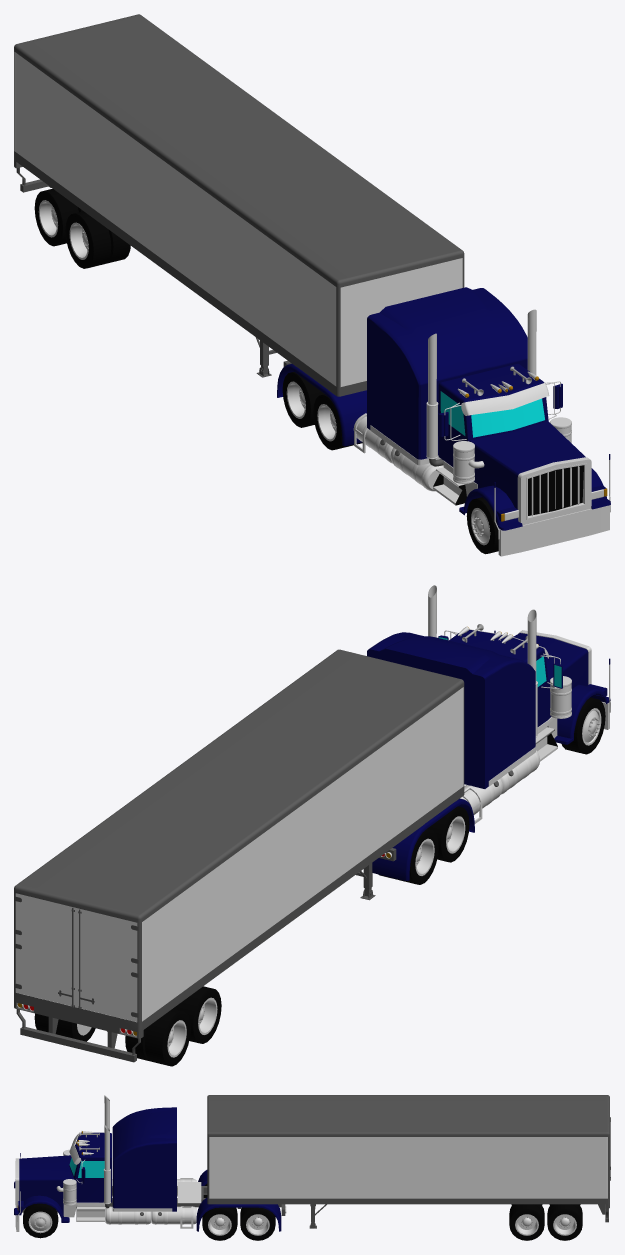
Rendered from Semi.fbx.
3 views of the same model, one above another, from view 1: azimuth 30°, elevation 25°; view 2: azimuth 150°, elevation 25°; view 3: azimuth 270°, elevation 25° (orthographic). The views are drawn at different scales.
Visible parts, largest first — view 1: Payload; view 2: Payload; view 3: Payload.
Boxes of the visible parts, x1,y1,x2,y2 form: Payload: (14,14,610,556); Payload: (14,585,610,1066); Payload: (14,1095,610,1240).
Bounding box in the file's own units: 10.27 × 13.36 × 65.05.
